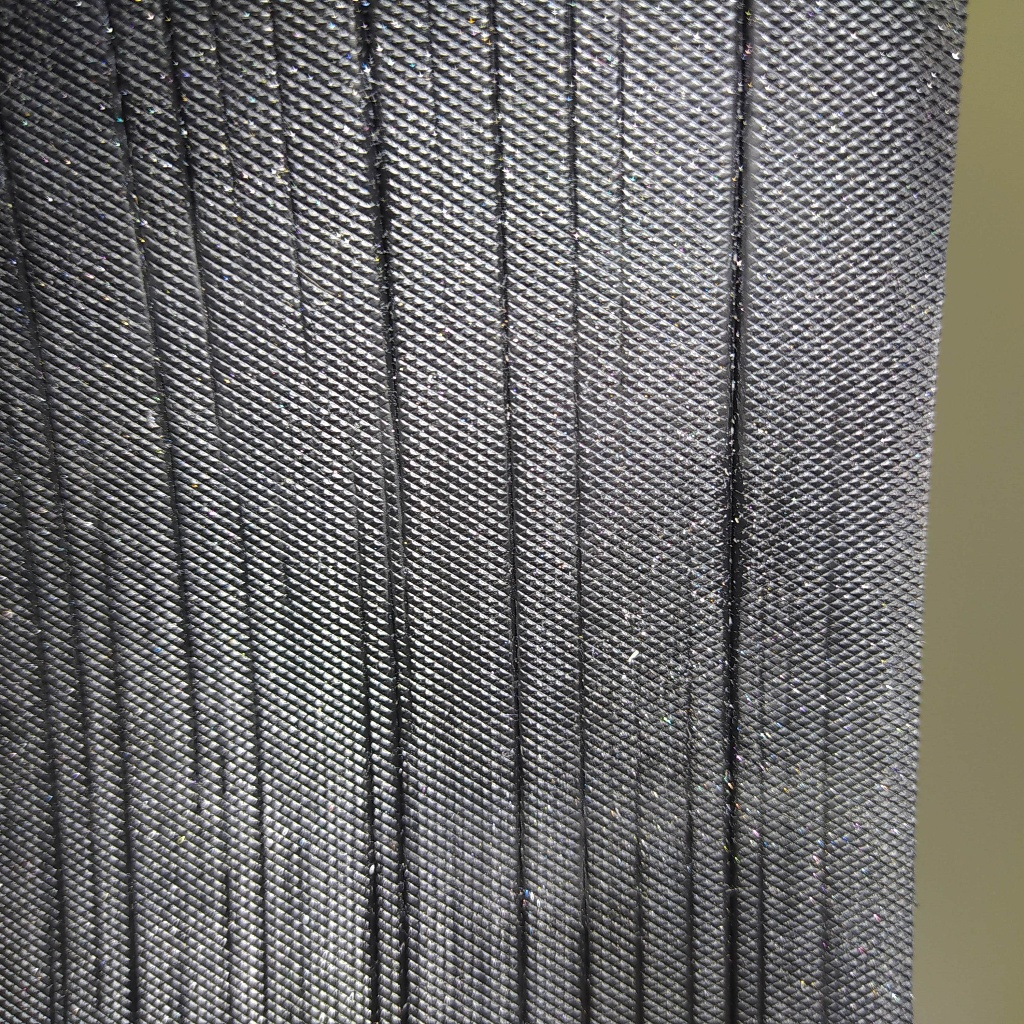friso grande: (727, 3, 753, 340), (357, 80, 399, 241), (569, 441, 587, 787), (480, 1, 514, 180), (182, 614, 210, 823), (36, 871, 72, 1020), (394, 756, 414, 1024), (387, 344, 411, 558), (81, 833, 106, 1022), (719, 792, 738, 1018), (247, 669, 272, 840), (488, 186, 515, 341), (122, 853, 145, 1022), (754, 783, 770, 1021), (105, 603, 132, 743), (387, 592, 410, 756), (505, 629, 531, 769), (721, 515, 740, 705), (166, 470, 191, 614), (723, 334, 742, 519), (683, 785, 697, 1024), (113, 739, 141, 851), (91, 482, 116, 605), (153, 341, 176, 474), (351, 2, 388, 82), (502, 341, 520, 500), (57, 465, 78, 599), (76, 713, 98, 835), (37, 355, 61, 466), (17, 269, 47, 357), (126, 144, 152, 242), (137, 242, 162, 342), (258, 832, 271, 1023), (366, 878, 383, 1024), (378, 235, 400, 347), (46, 749, 66, 871), (70, 596, 90, 713), (108, 60, 134, 147), (717, 703, 742, 792), (512, 768, 531, 882), (507, 496, 523, 631), (578, 786, 594, 918), (515, 884, 530, 1024), (10, 184, 34, 266), (568, 301, 581, 444), (16, 448, 33, 556), (565, 174, 579, 305), (362, 754, 377, 875), (38, 659, 56, 752), (181, 201, 204, 271), (179, 130, 201, 202), (166, 65, 190, 130), (30, 554, 44, 661), (204, 2, 228, 61), (564, 79, 578, 180), (157, 0, 179, 61), (565, 0, 580, 84), (579, 916, 589, 1024), (107, 6, 125, 61)
friso pequeno: (207, 753, 242, 1024), (232, 482, 259, 669), (373, 389, 398, 589), (614, 57, 627, 408), (418, 0, 445, 162), (632, 750, 648, 1021), (344, 438, 371, 595), (353, 594, 375, 753), (683, 554, 697, 787), (818, 788, 830, 1022), (204, 320, 222, 475), (818, 605, 833, 787), (191, 238, 219, 315), (266, 61, 295, 128), (757, 630, 768, 787), (221, 123, 244, 198), (262, 2, 288, 67), (299, 285, 314, 395), (827, 487, 839, 609), (287, 208, 306, 280), (279, 128, 296, 207), (212, 58, 231, 122), (614, 0, 624, 63)
